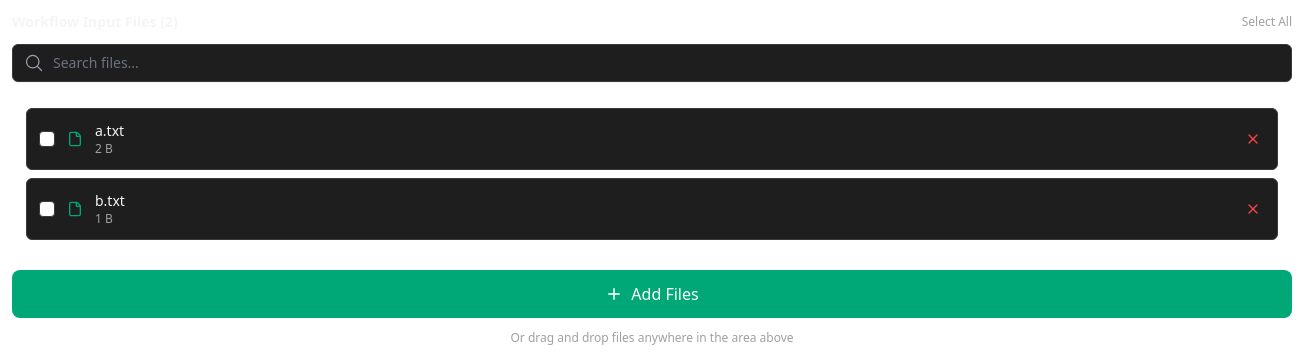
Test: FileInputPanel › removes a single file
Click the button named "Remove a.txt". click: coordinates (1253, 139)
box: [1241,127,1265,151]
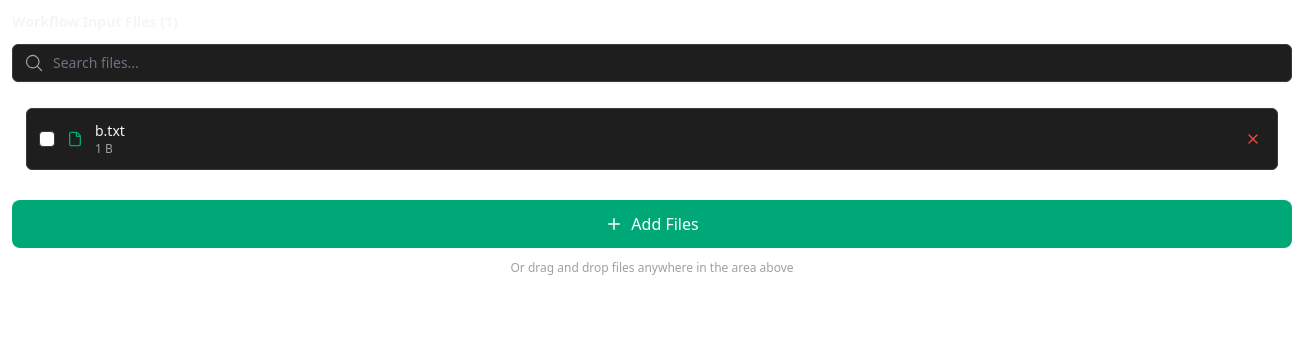
Click the button named "Remove b.txt". click: coordinates (1253, 139)
box: [1241,127,1265,151]
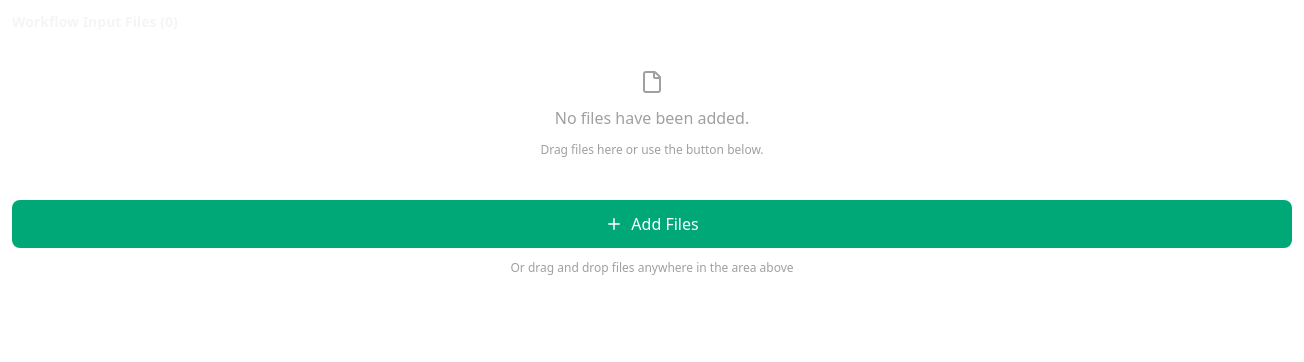
Result: the text "No files have been added." is shown at [555,106,749,130]
